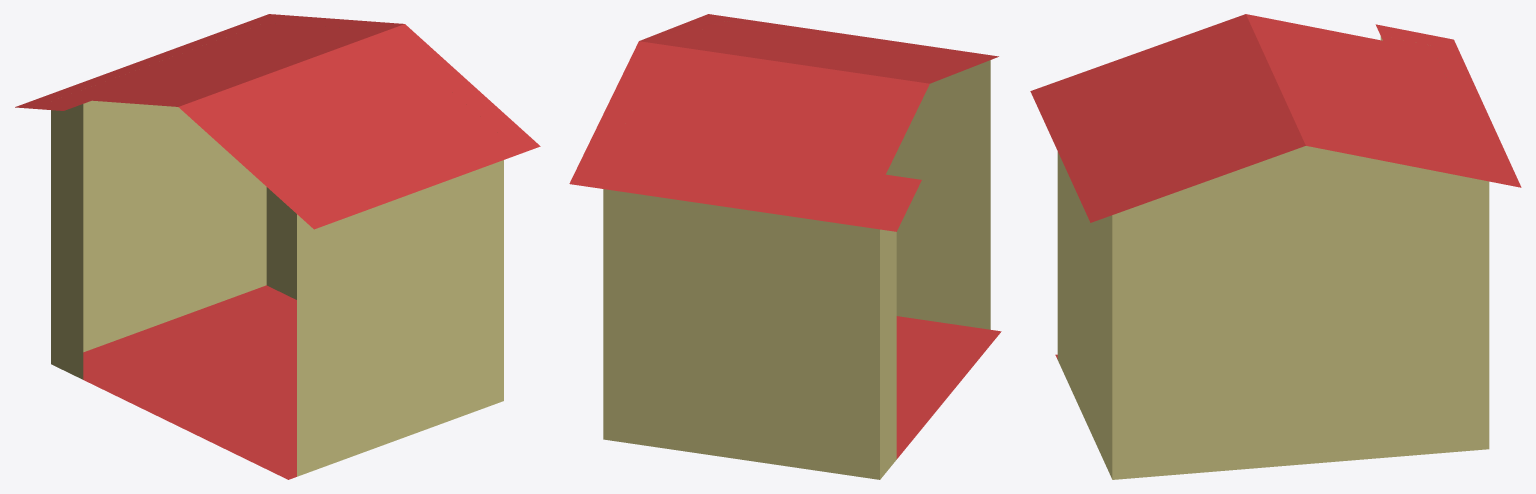
3 views of the same model, side by side, from view 1: azimuth 30°, elevation 25°; view 2: azimuth 150°, elevation 25°; view 3: azimuth 270°, elevation 25° (orthographic). The views are drawn at different scales.
Bounding box in the file's own units: 7.83 × 8.87 × 6.58.
